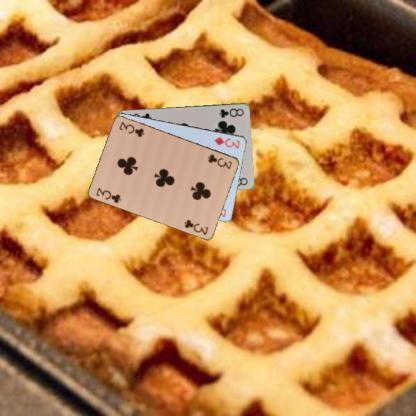3c: (94, 185, 122, 204), (205, 152, 234, 170)
3d: (212, 134, 241, 150)
8c: (216, 106, 246, 118)
